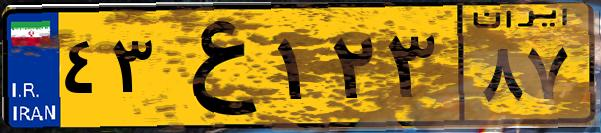1: (270, 28, 330, 110)
2: (330, 28, 385, 110)
3: (385, 28, 445, 110), (110, 28, 158, 98)
4: (57, 26, 110, 100)
7: (525, 38, 570, 115)
8: (475, 38, 525, 113)
ع: (158, 12, 270, 120)
